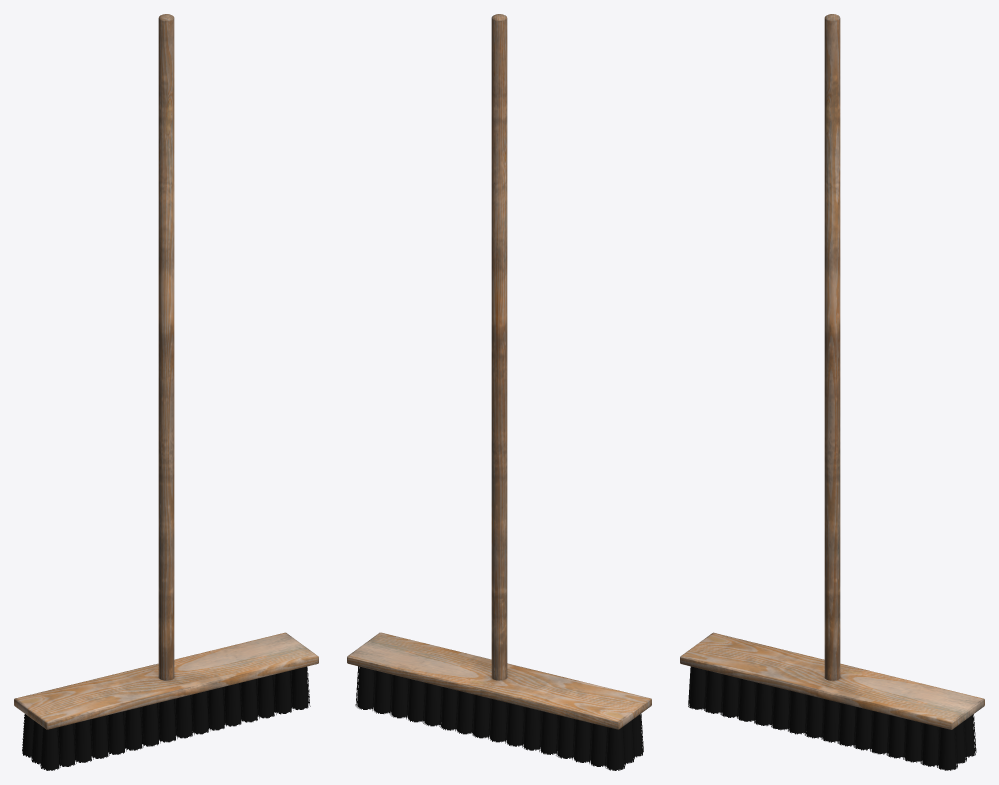
File: broom.fbx
The picture shows the model from 3 angles, left to right: view 1: azimuth 30°, elevation 25°; view 2: azimuth 150°, elevation 25°; view 3: azimuth 330°, elevation 25°; orthographic projection.
Parts seen in each view (by area): view 1: brush01_broom01_plastic_0; view 2: brush01_broom01_plastic_0; view 3: brush01_broom01_plastic_0.
Part boxes in pixels (box(x1,y1,x2,y2)): brush01_broom01_plastic_0: box(14, 14, 318, 770); brush01_broom01_plastic_0: box(347, 14, 651, 770); brush01_broom01_plastic_0: box(680, 14, 984, 770).
Bounding box in the file's own units: 15.24 × 38.19 × 3.24.
1 material, 1 textured.
